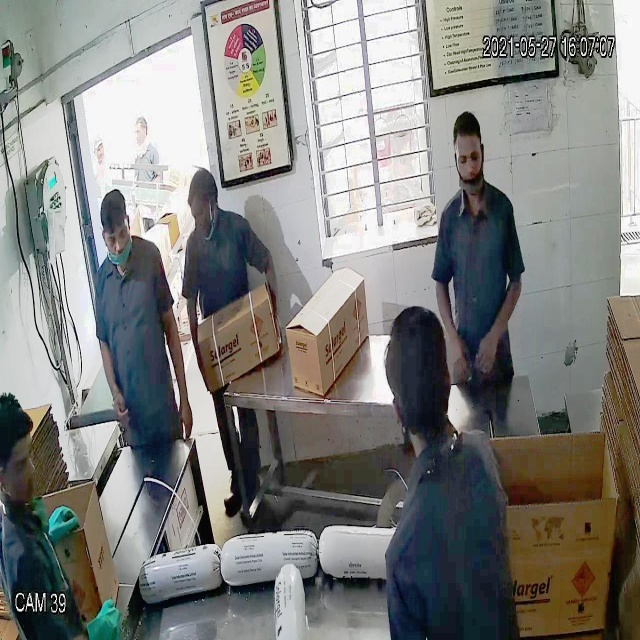Sin_gafas: (448, 139, 489, 174), (100, 220, 132, 254)
